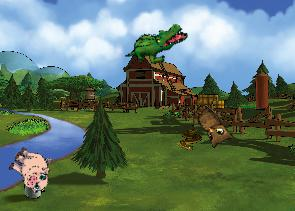crocodile: (123, 10, 190, 78)
owl: (183, 102, 237, 153)
pig: (3, 142, 58, 196)
